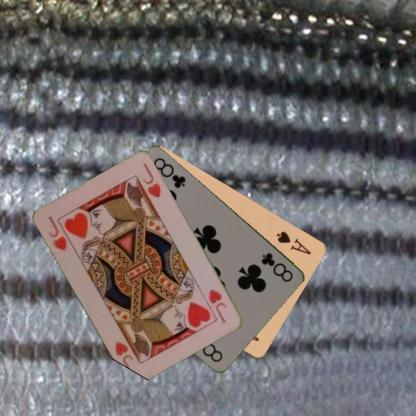8c: (259, 250, 295, 284)
As: (274, 228, 312, 256)
Jh: (46, 213, 69, 253), (206, 286, 228, 324)
